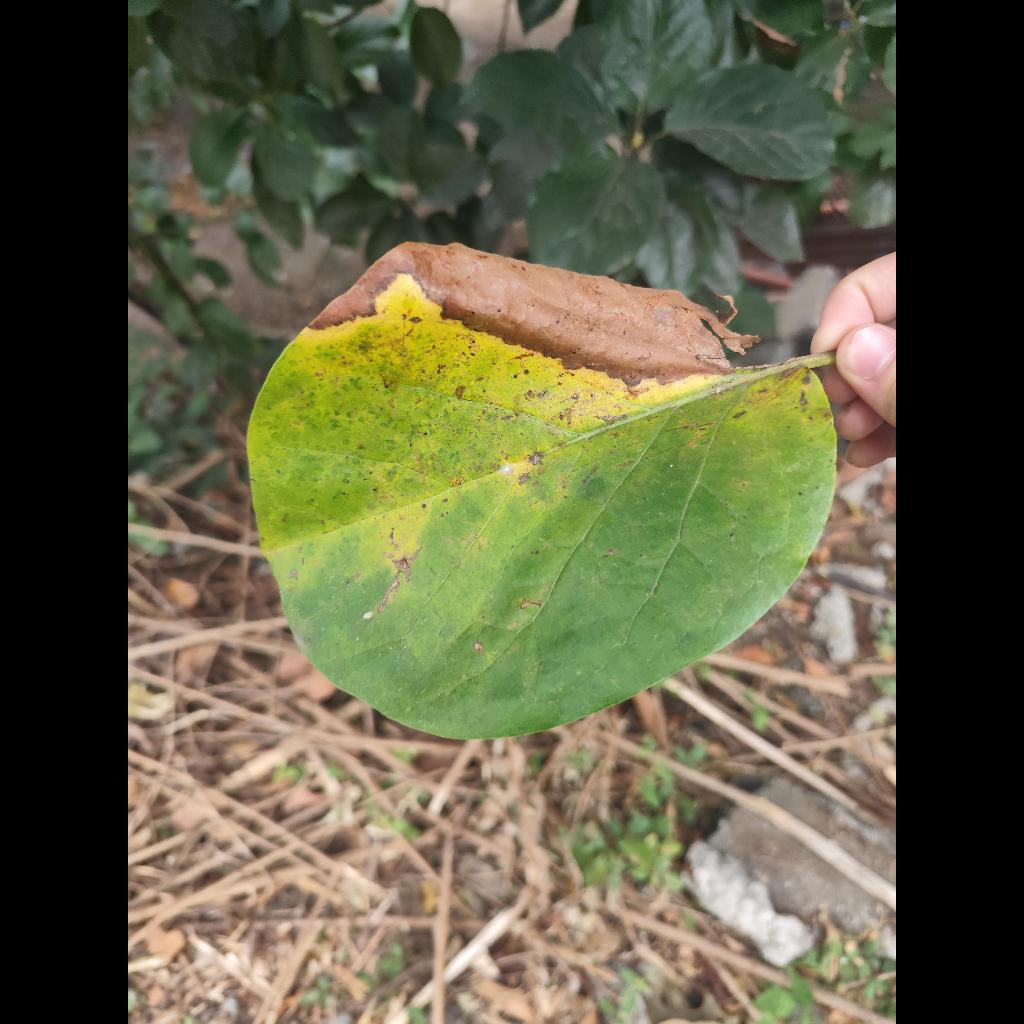nutrient_deficiency: (249, 242, 833, 738)
